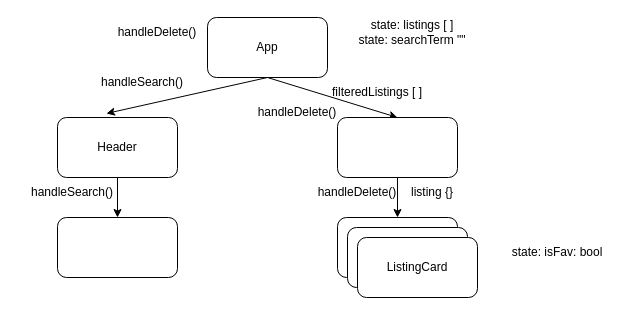
Some shapes in this 644 by 315 pixel diagram are drawn without their labels. The box of each missing label's shape, as (x1, y1, x2, y2) in pixels:
ListingsContainer: (336, 116, 458, 178)
Search: (56, 216, 178, 278)
